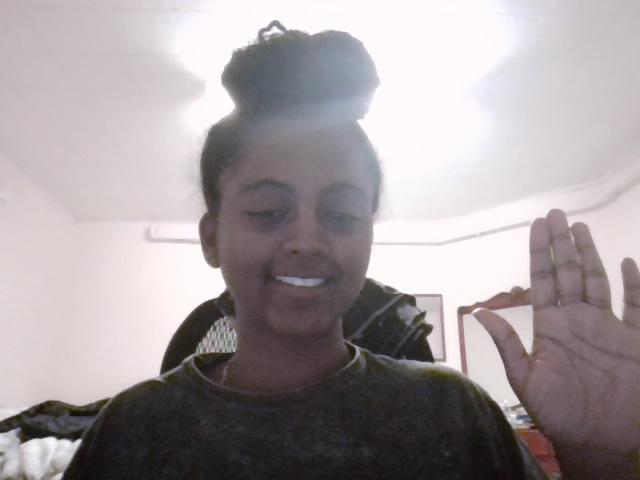hello: (471, 206, 640, 480)
